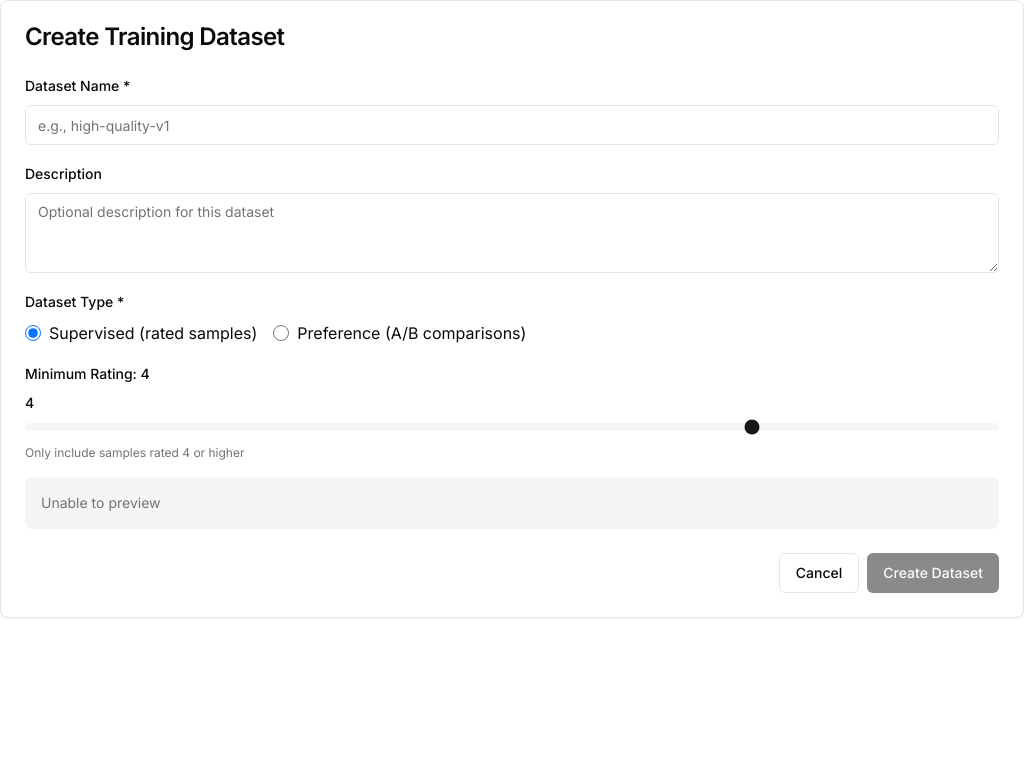
Test: DatasetCreateForm › disables submit button while loading
Type "Test Dataset" into the field with placeholder "e.g., high-quality-v1" at (512,125), box [25,105,999,145]
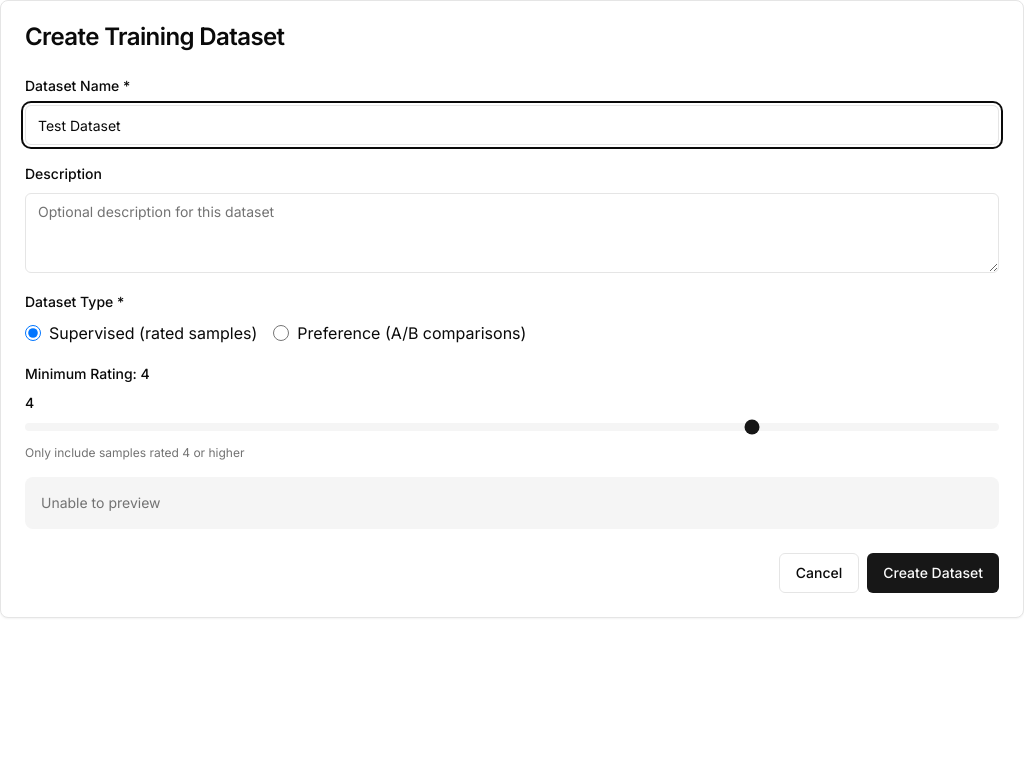
Click the button "Create Dataset" at (933,573), box [867,553,999,593]
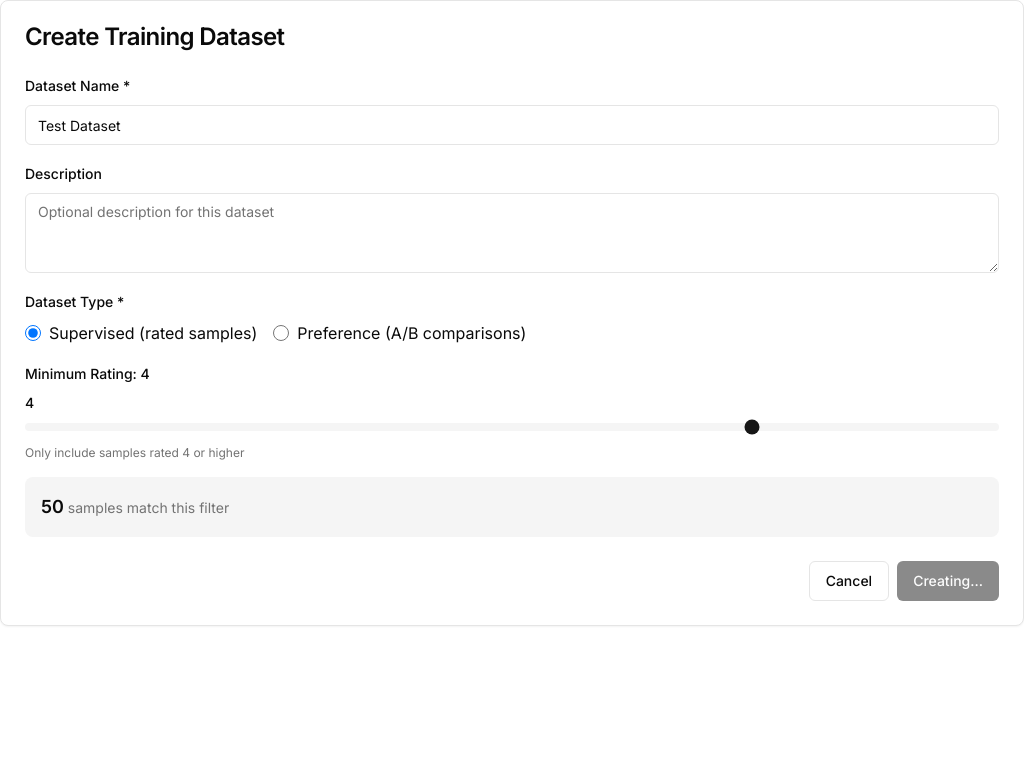
Expected: the button named "create" is disabled, [897,561,999,601]
